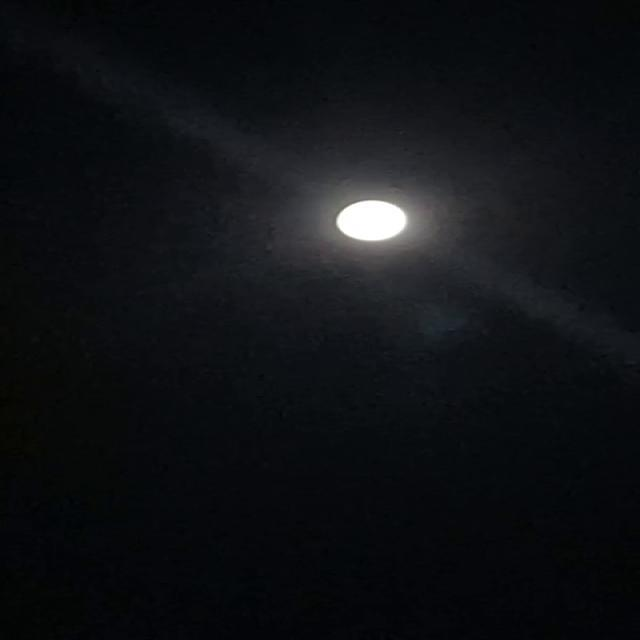moon: (304, 196, 420, 254)
